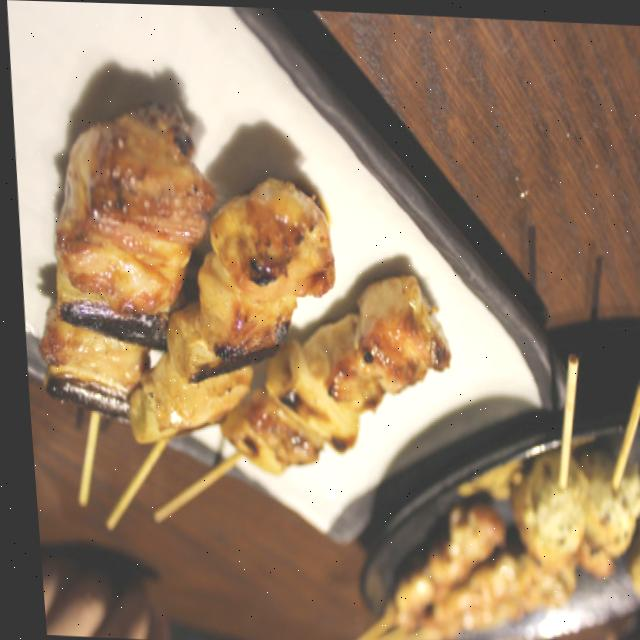烧串烤肉: (1, 19, 522, 542)
